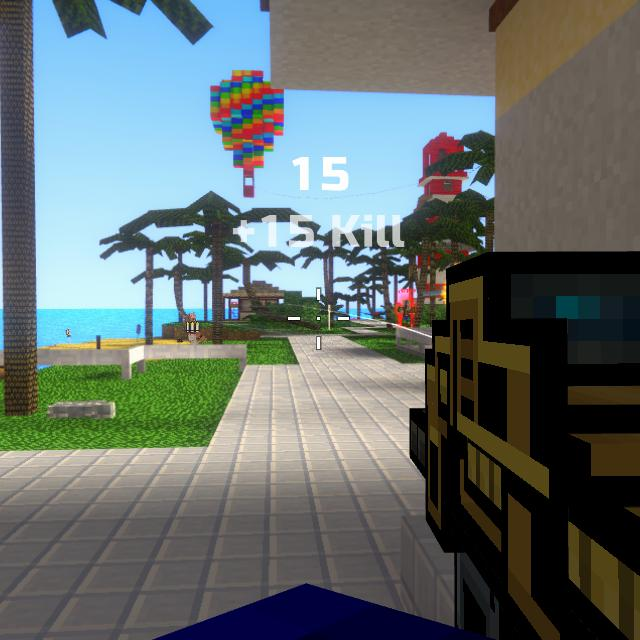Enemy: (398, 300, 416, 328)
